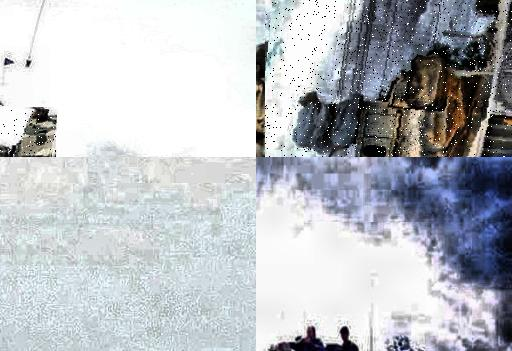tanks: (358, 1, 512, 158), (1, 111, 57, 158), (321, 344, 323, 351), (288, 345, 290, 351), (277, 347, 278, 351)
